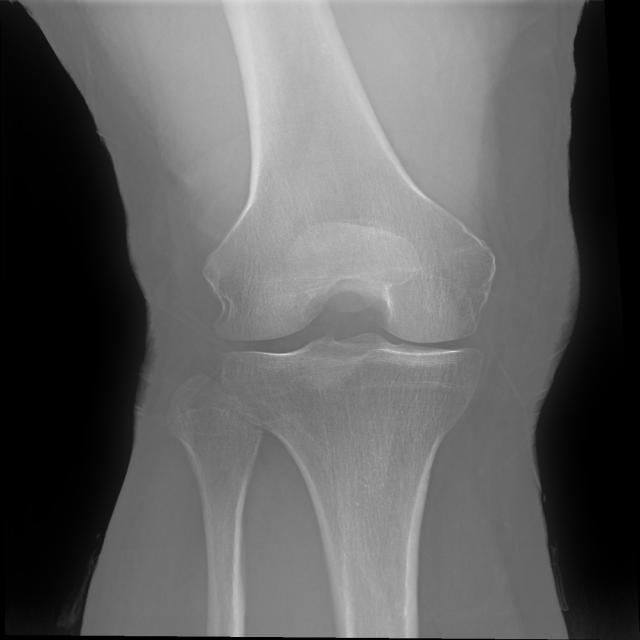fracture: (154, 259, 539, 444)
